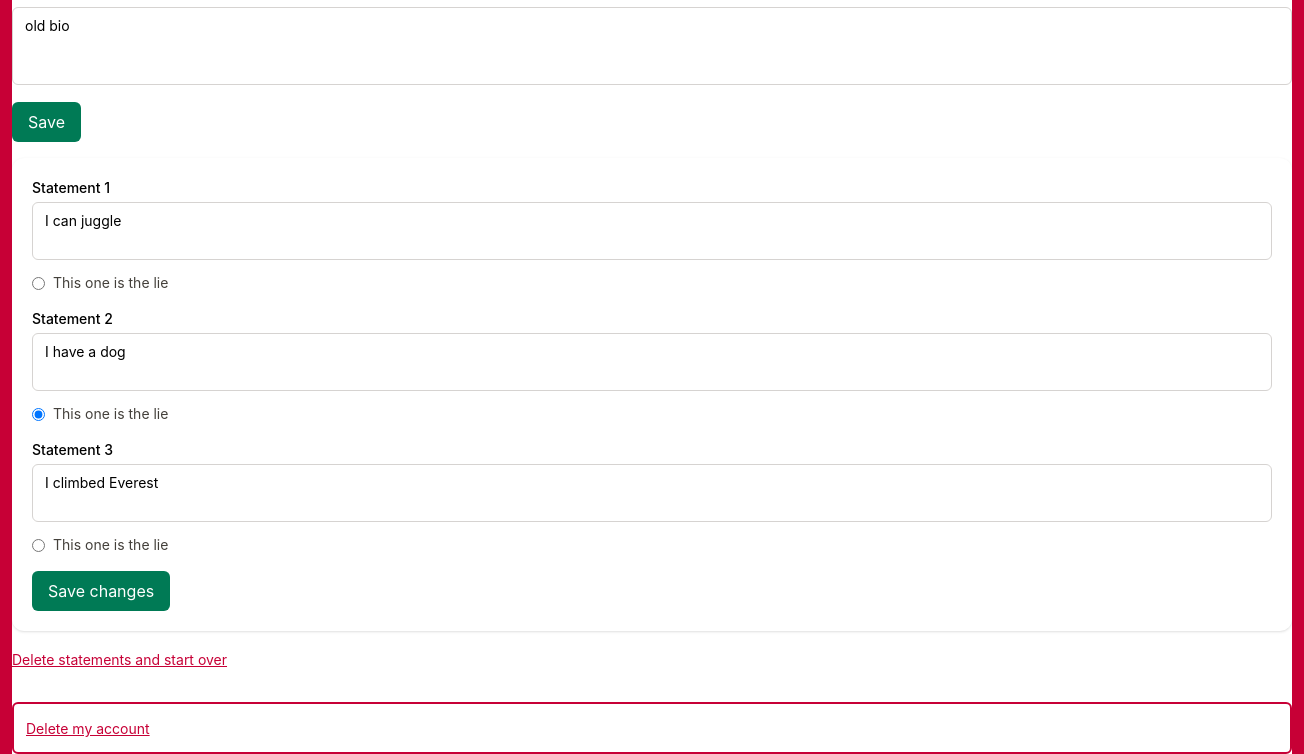
Test: cancel closes account delete before anything is removed
(page scrolled)
What coordinates should you click on to do the following:
click the button "Delete my account"
I would click on:
 (88, 729)
Its box is [26,719,150,739].
(page scrolled)
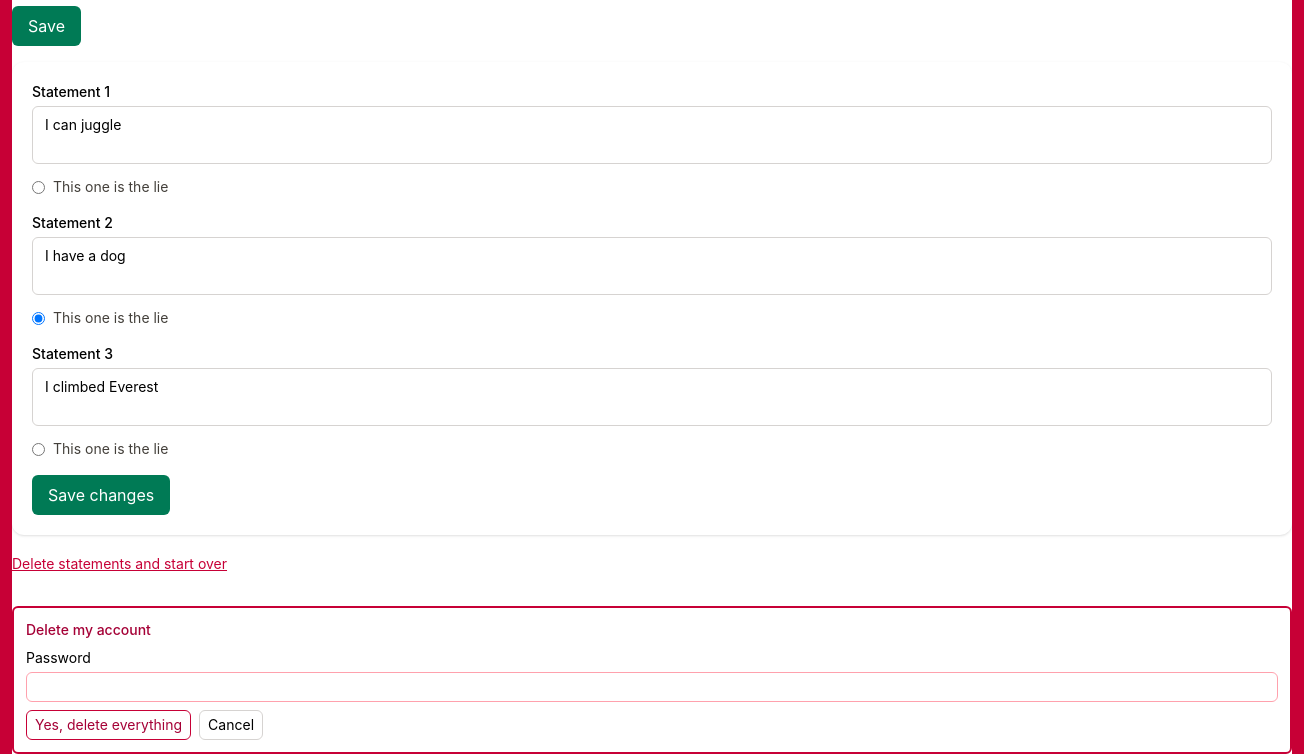
Expected: the button "Yes, delete everything" is shown, [26,710,191,740]
What coordinates should you click on to do the following:
click the button "Cancel"
I would click on:
 (231, 725)
Its box is [199,710,263,740].
(page scrolled)
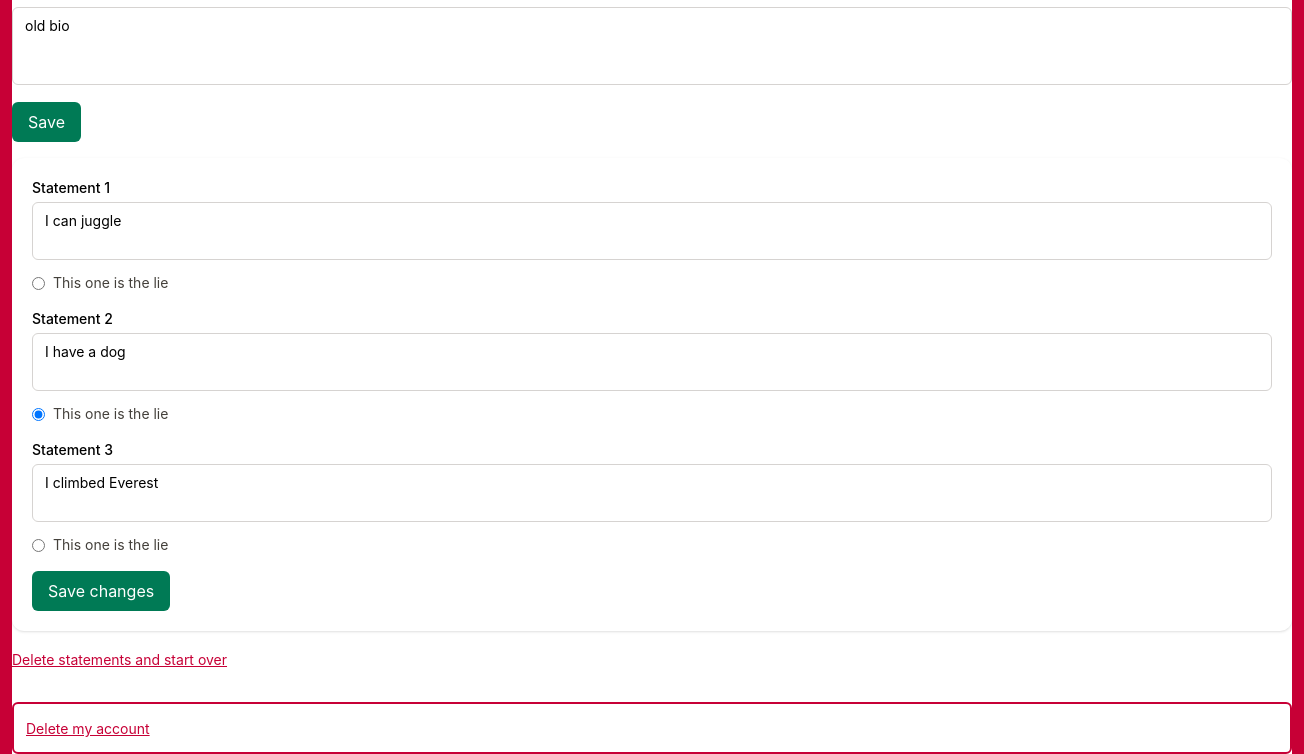
Expected: the button "Delete my account" is shown, [26,719,150,739]
Expected: the label labelled "Password" is gone
